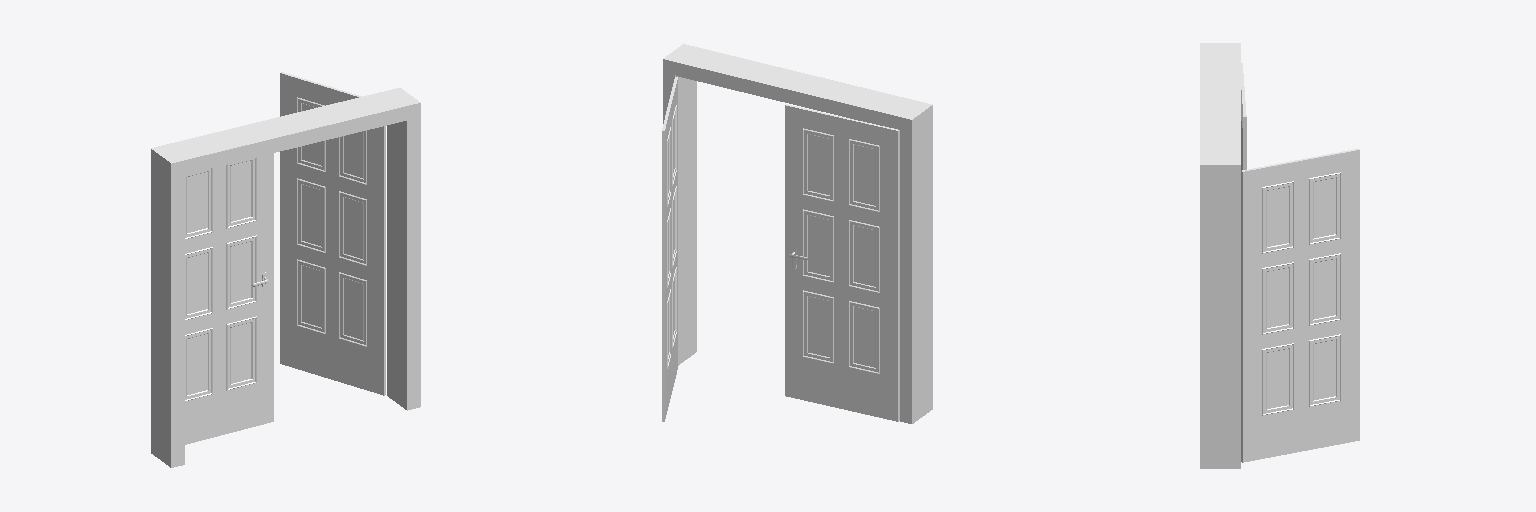
File: puerta.obj
The picture shows the model from 3 angles: view 1: azimuth 30°, elevation 25°; view 2: azimuth 150°, elevation 25°; view 3: azimuth 270°, elevation 25°; orthographic projection.
Parts seen in each view (by area): view 1: door_modern1:Mesh; view 2: door_modern1:Mesh; view 3: door_modern1:Mesh.
Part boxes in pixels (x1,y1,x2,y2): door_modern1:Mesh: (151, 72, 420, 467); door_modern1:Mesh: (662, 44, 932, 423); door_modern1:Mesh: (1200, 43, 1359, 468).
Size of the model in its own units: 1.8 by 2.1 by 1.